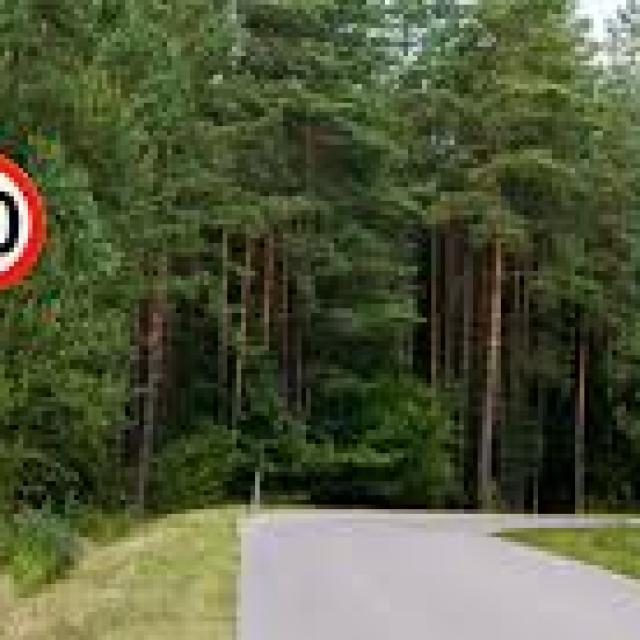Speed Limit -90-: (0, 135, 51, 299)
